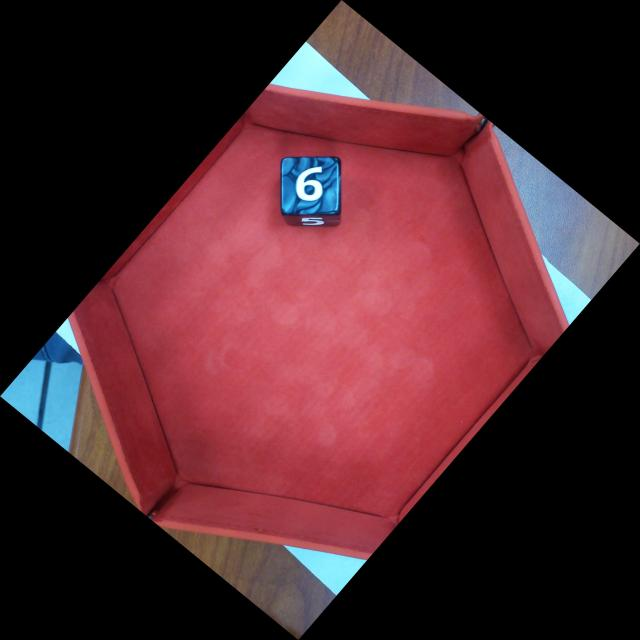dice: (281, 158, 341, 215)
